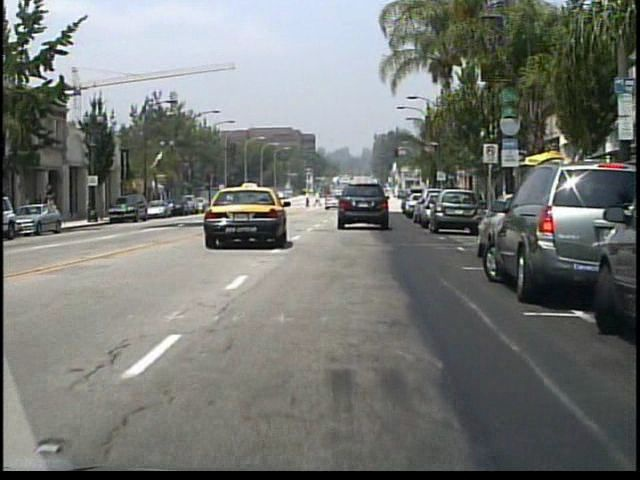person: (47, 193, 58, 224), (315, 190, 324, 210), (303, 192, 312, 210)
